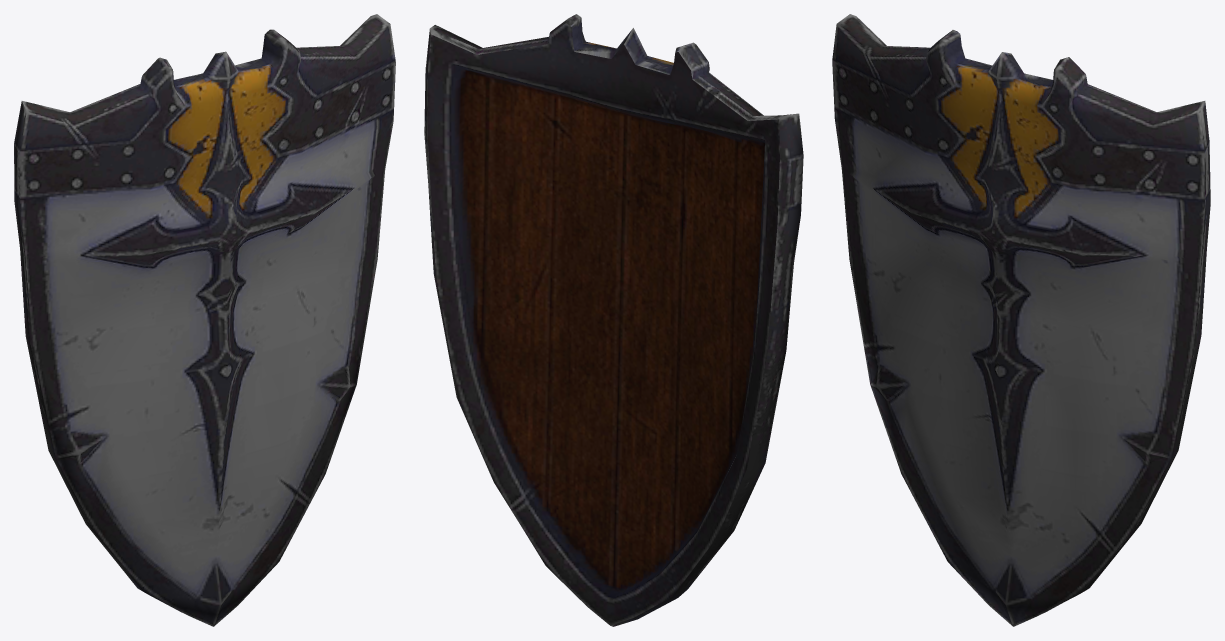
The model's file is Shield.glb.
The picture shows the model from 3 angles, left to right: view 1: azimuth 30°, elevation 25°; view 2: azimuth 150°, elevation 25°; view 3: azimuth 330°, elevation 25°; orthographic projection.
Visible parts, largest first — view 1: 0282_Blessed_id2610_noesis_meshnode_0000.001; view 2: 0282_Blessed_id2610_noesis_meshnode_0000.001; view 3: 0282_Blessed_id2610_noesis_meshnode_0000.001.
Boxes of the visible parts, left/top/right/bottom form: 0282_Blessed_id2610_noesis_meshnode_0000.001: left=14, top=14, right=395, bottom=626; 0282_Blessed_id2610_noesis_meshnode_0000.001: left=424, top=14, right=803, bottom=626; 0282_Blessed_id2610_noesis_meshnode_0000.001: left=832, top=14, right=1210, bottom=626.
Size of the model in its own units: 35.87 by 53.62 by 6.89.
Materials: 1 (1 with a texture image).
